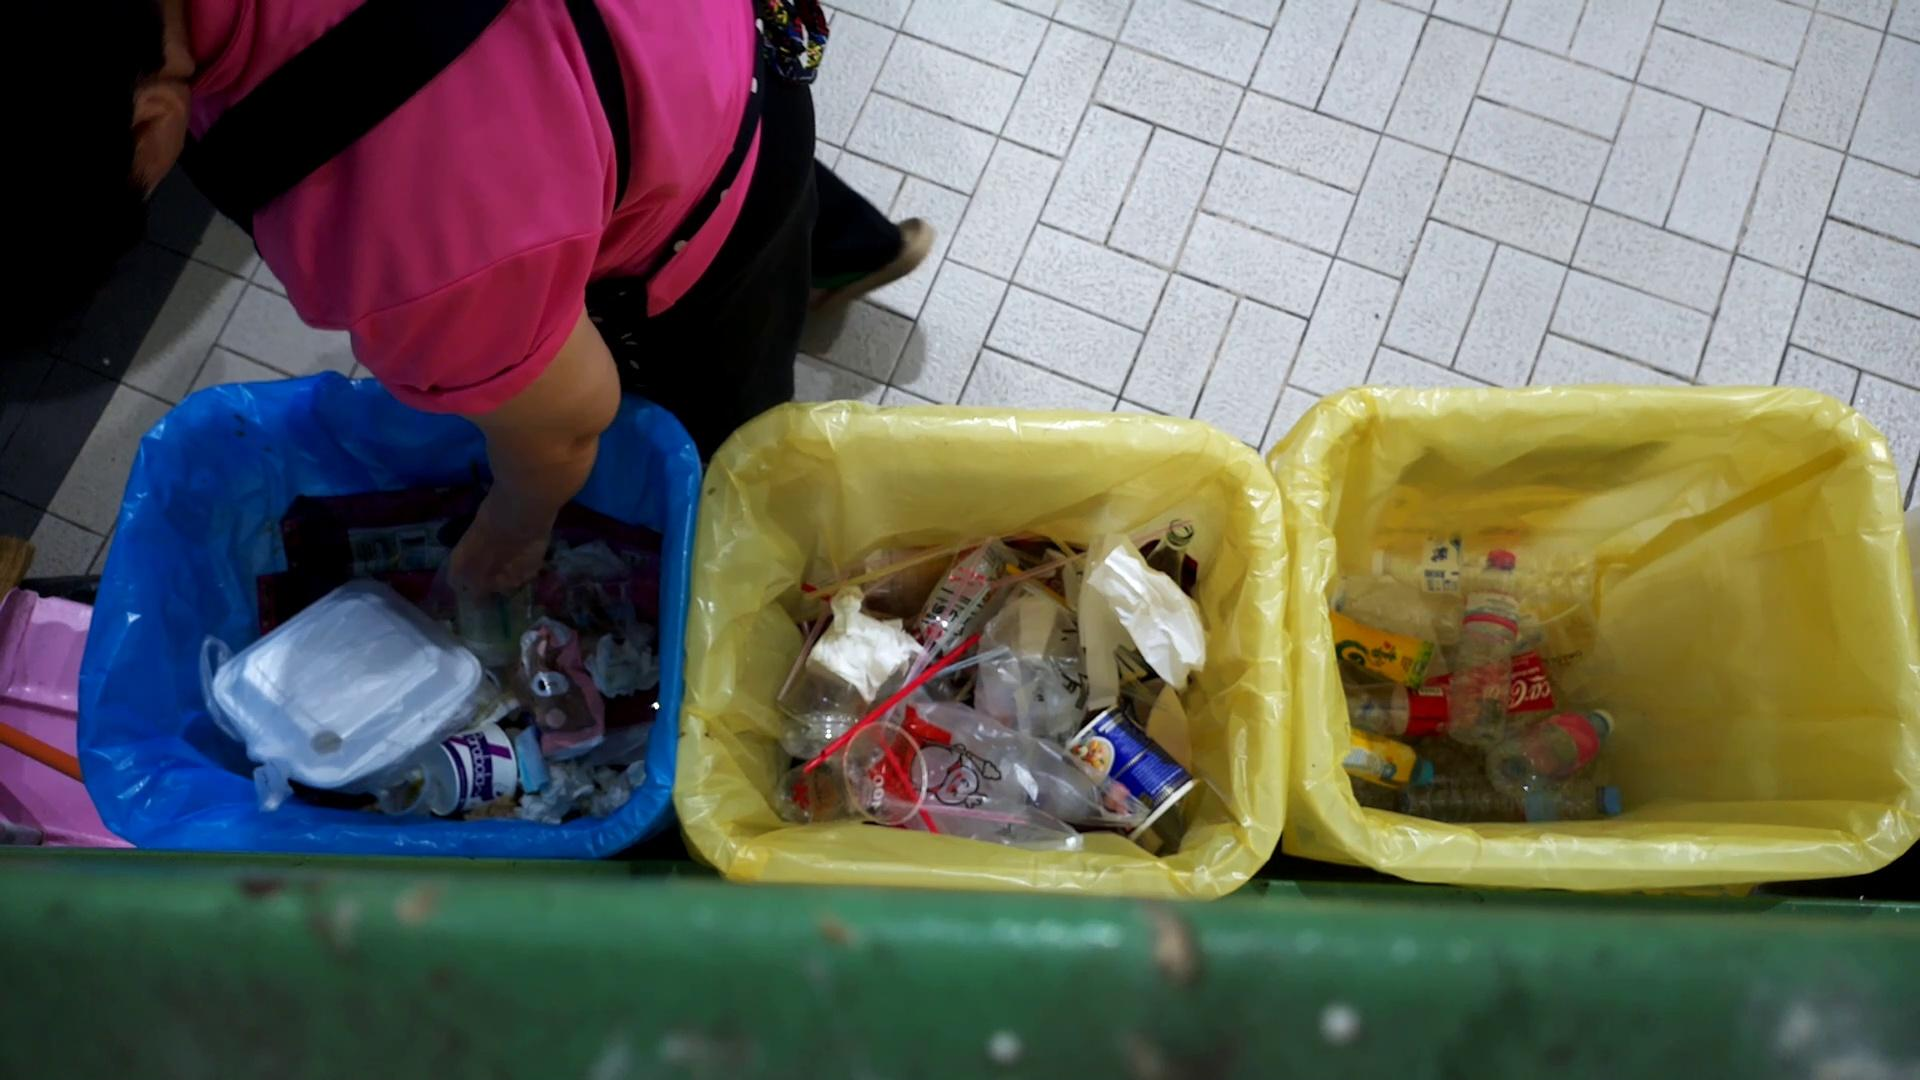filled plastic bag: (189, 563, 487, 812), (969, 580, 1091, 746)
food container: (1063, 700, 1204, 847), (411, 709, 520, 815), (372, 757, 436, 822)
plastic bag: (864, 691, 1156, 853), (1077, 529, 1211, 716)
plastic bottle: (1369, 526, 1606, 613), (1441, 543, 1524, 752), (1482, 703, 1621, 802), (1328, 599, 1440, 702), (1445, 766, 1639, 822), (1338, 725, 1433, 793)
plastic cup: (769, 719, 936, 828), (1506, 578, 1633, 713)
snack packaging: (508, 612, 616, 766)
straw: (803, 630, 980, 774), (877, 538, 993, 732), (802, 541, 985, 601), (913, 585, 990, 680), (880, 740, 940, 835), (774, 600, 831, 702), (884, 799, 1033, 828), (934, 645, 1007, 678)
tissue paper: (806, 583, 920, 703), (588, 625, 638, 699), (529, 754, 592, 811), (510, 721, 553, 795), (582, 765, 640, 818), (514, 794, 568, 824)
